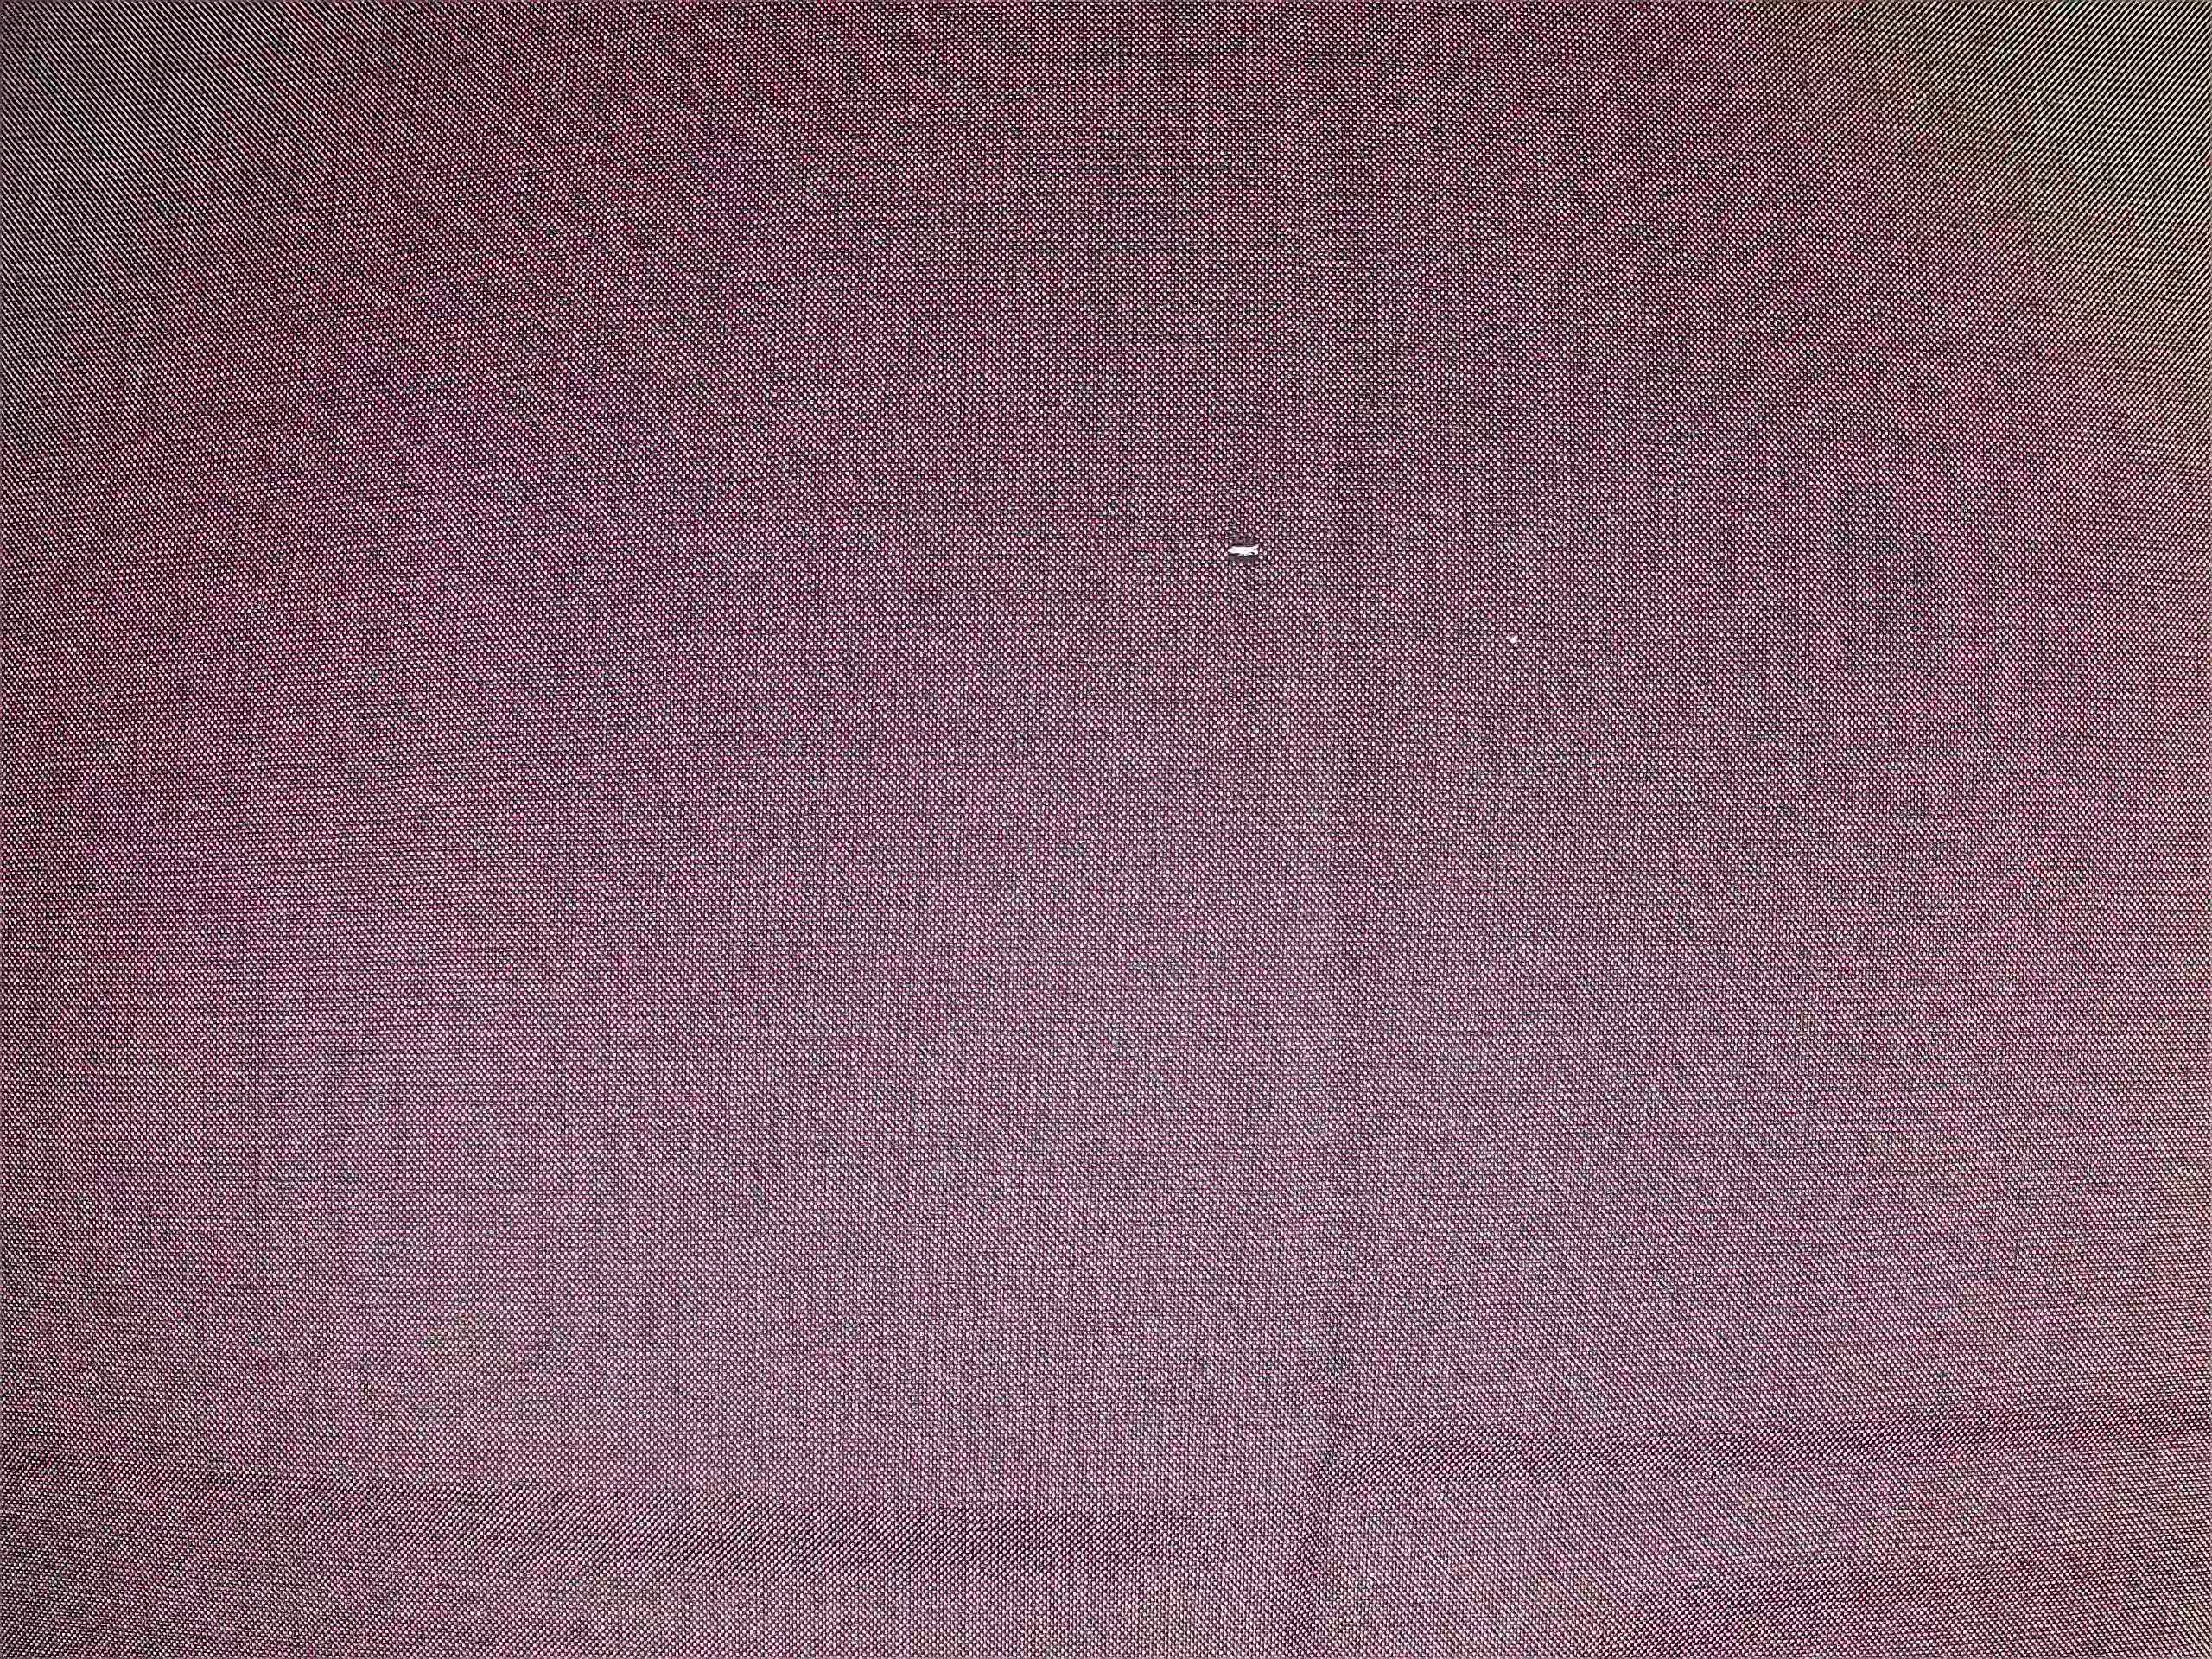rubbing-hole: (1200, 518, 1285, 586)
